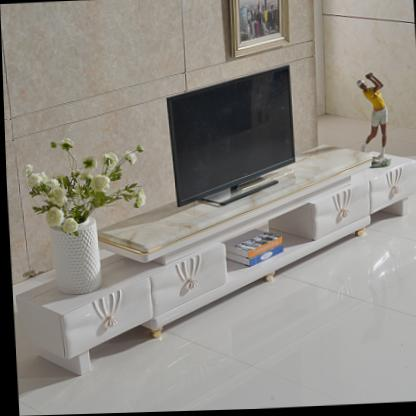Ceramic floor: (11, 194, 416, 416)
TV stand: (10, 152, 416, 376)
